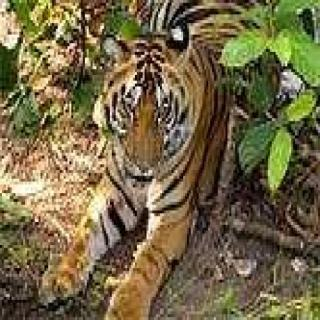Tiger: (48, 23, 261, 320)
